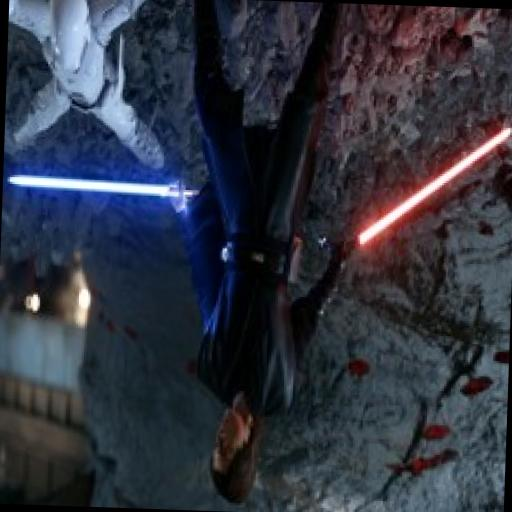human: (159, 0, 364, 507)
lightsaber: (2, 170, 202, 206)
sith saber: (332, 117, 510, 268)
